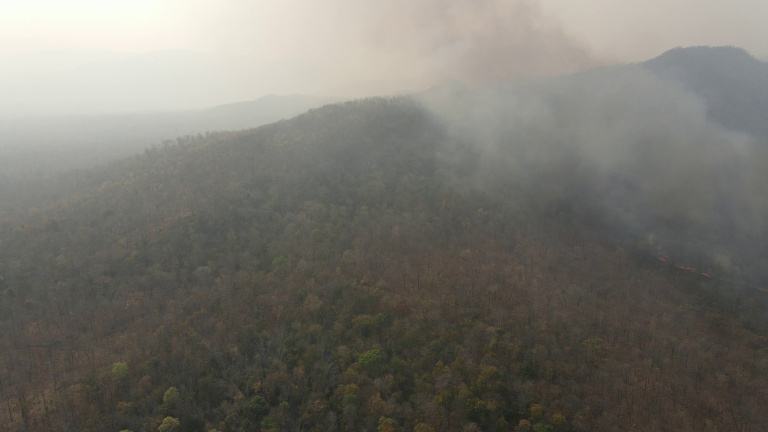fire: (653, 250, 710, 280), (748, 280, 768, 294)
smoke: (389, 1, 768, 234)
